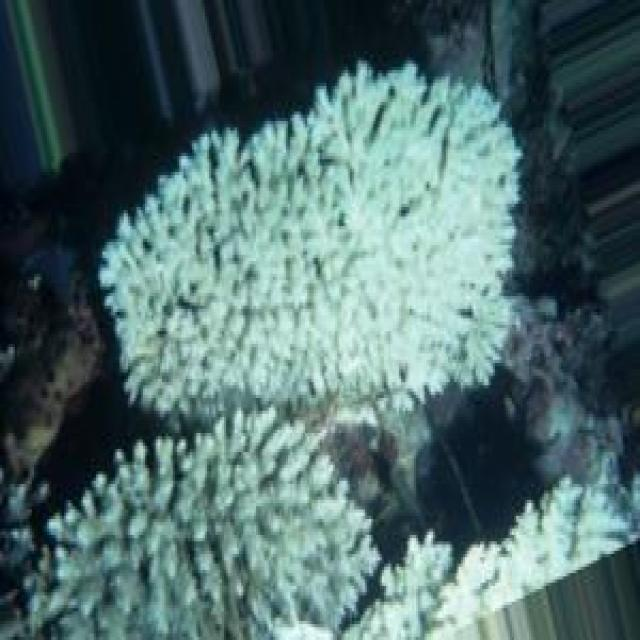bleached coral: (260, 490, 373, 583), (81, 525, 188, 621), (149, 376, 335, 430), (226, 283, 337, 373), (124, 255, 218, 350), (361, 115, 448, 213), (215, 175, 326, 248), (352, 248, 425, 334), (407, 541, 484, 621), (173, 459, 252, 535), (471, 181, 514, 290)
